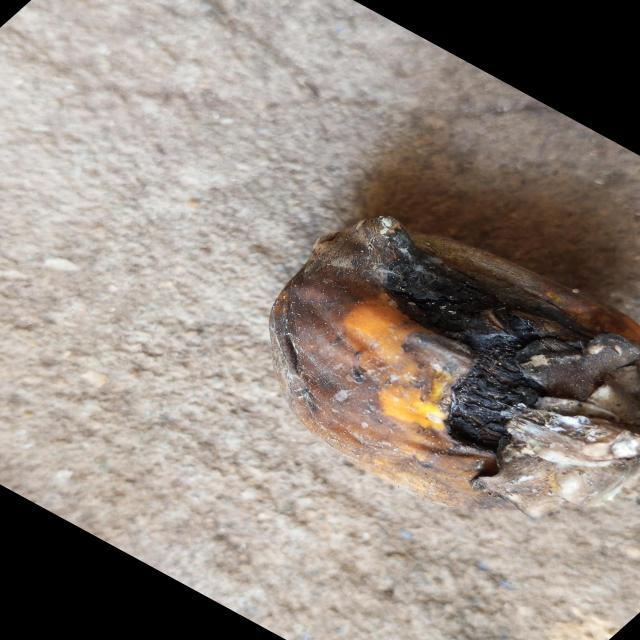damaged: (274, 218, 640, 515)
